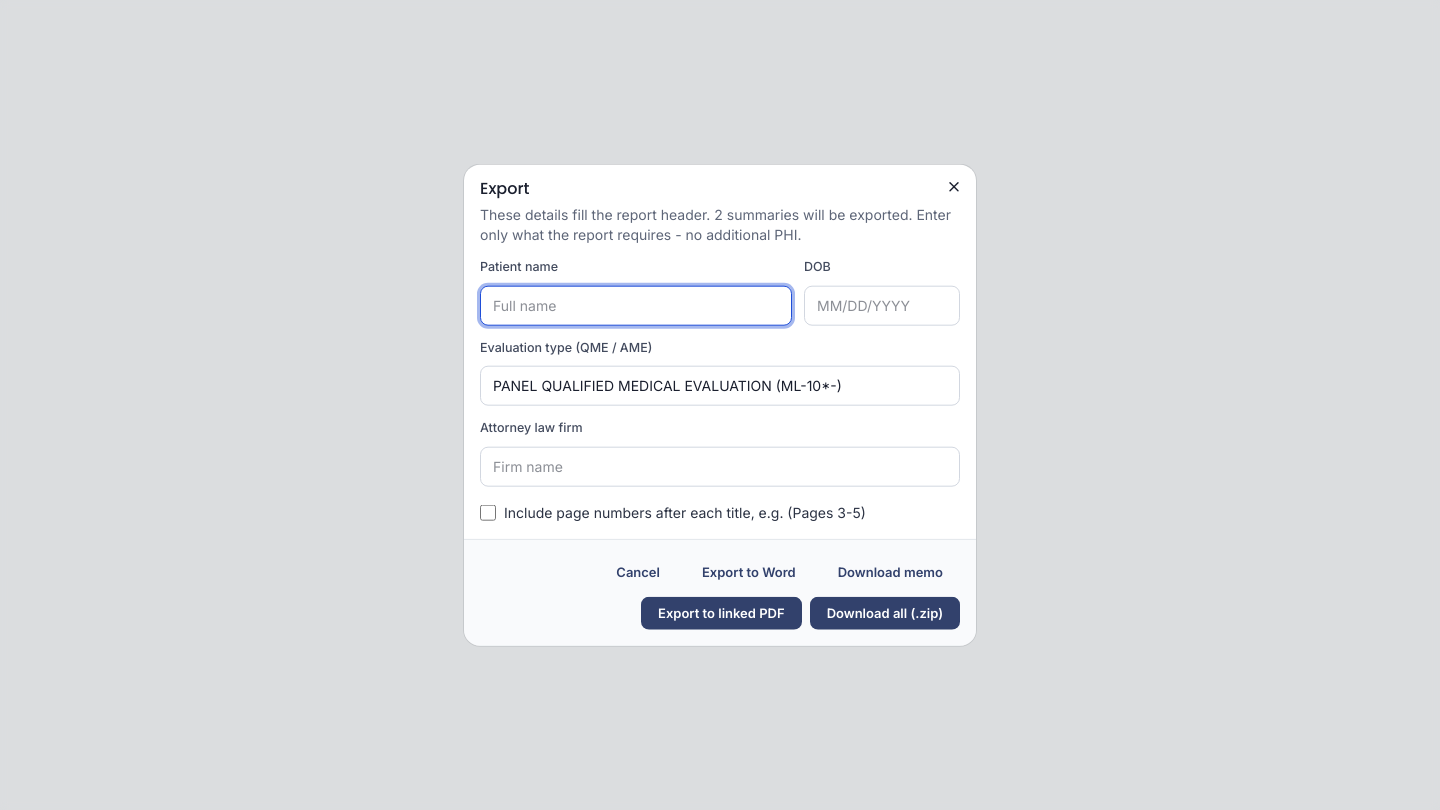
Test: ExportDialog error handling › does not report success when the session has ended
Click the button "Export to Word": (749, 572) [685, 555, 813, 588]
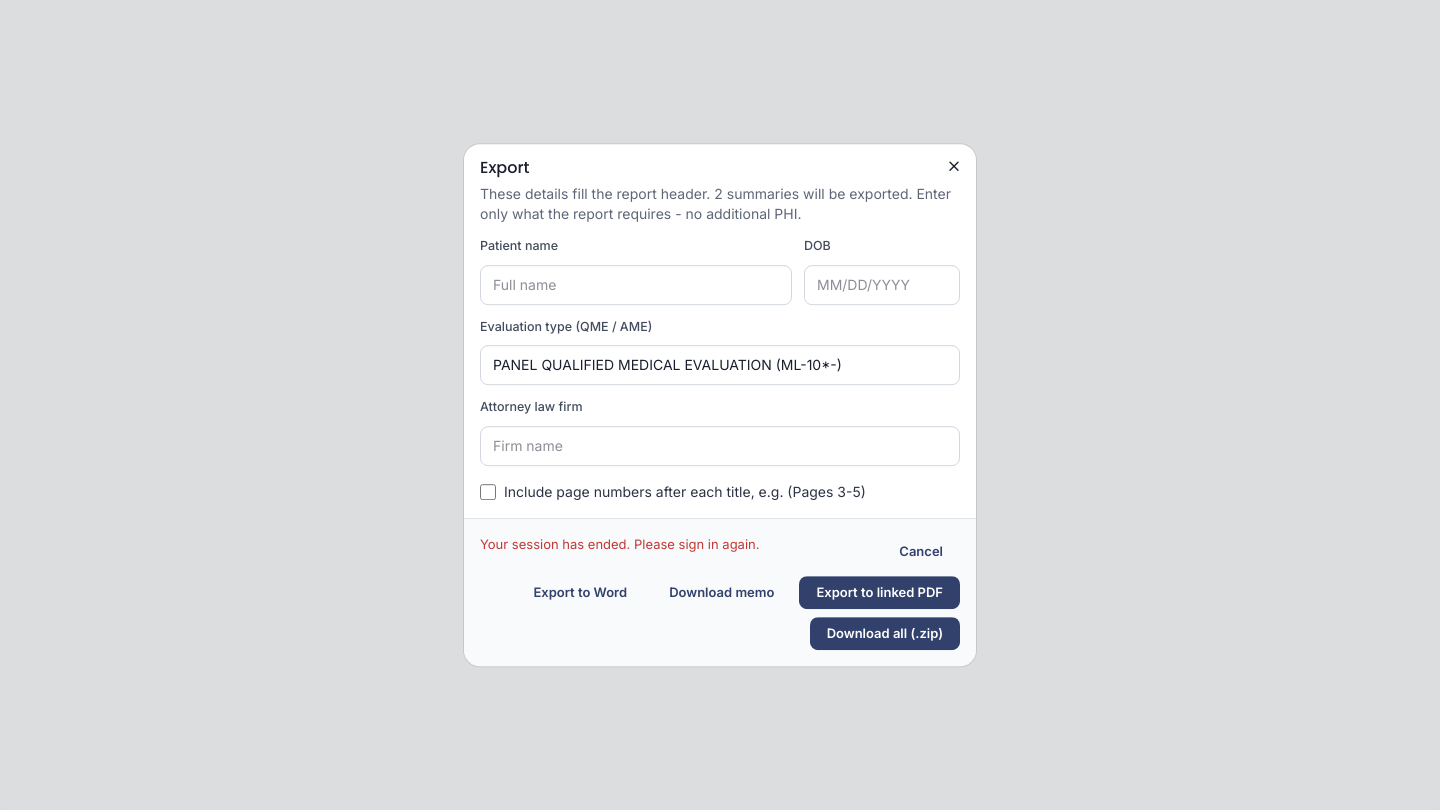
Expected: the text "Your session has ended. Please sign in again." is shown, [480, 536, 760, 552]
